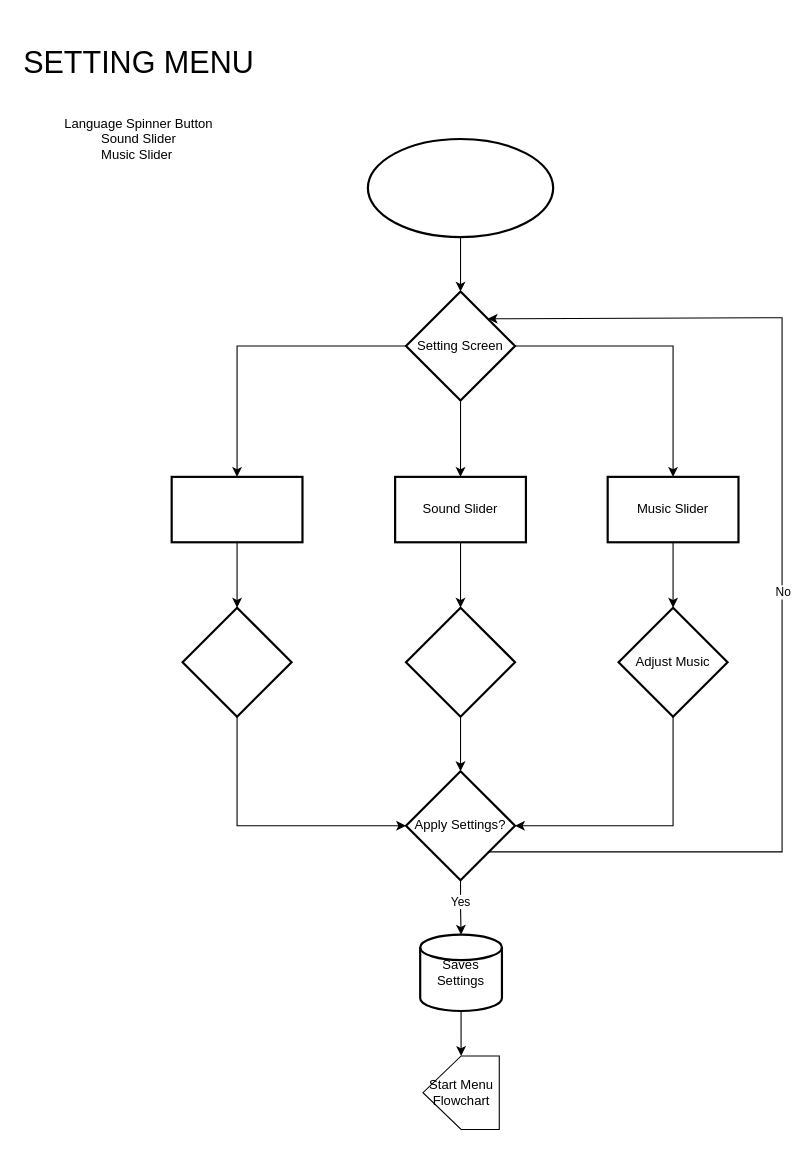
This 810x1149 diagram has some shape labels left out. Here are the shapes that lost their labels. From the top down, the box of each, then its label:
(366, 137, 554, 238): Setting Menu Scene
(170, 475, 303, 543): Language Selection
(181, 606, 292, 717): Select Language
(404, 606, 516, 717): Adjust Sound
